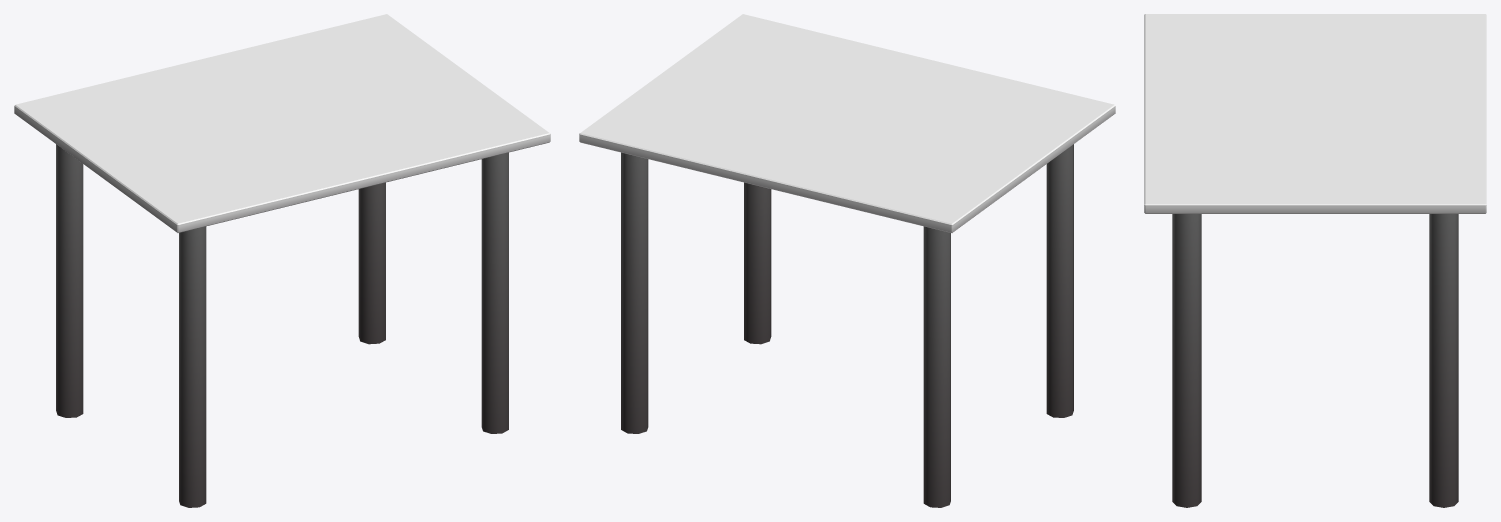
Rendered from WE01_Jetty_Table.fbx.
3 views of the same model, side by side, from view 1: azimuth 30°, elevation 25°; view 2: azimuth 150°, elevation 25°; view 3: azimuth 270°, elevation 25° (orthographic). The views are drawn at different scales.
Parts seen in each view (by area): view 1: Table; view 2: Table; view 3: Table.
Boxes of the visible parts, x1,y1,x2,y2 form: Table: [14, 14, 550, 507]; Table: [579, 14, 1115, 507]; Table: [1144, 14, 1486, 507].
Size of the model in its own units: 1.32 by 1.02 by 1.
